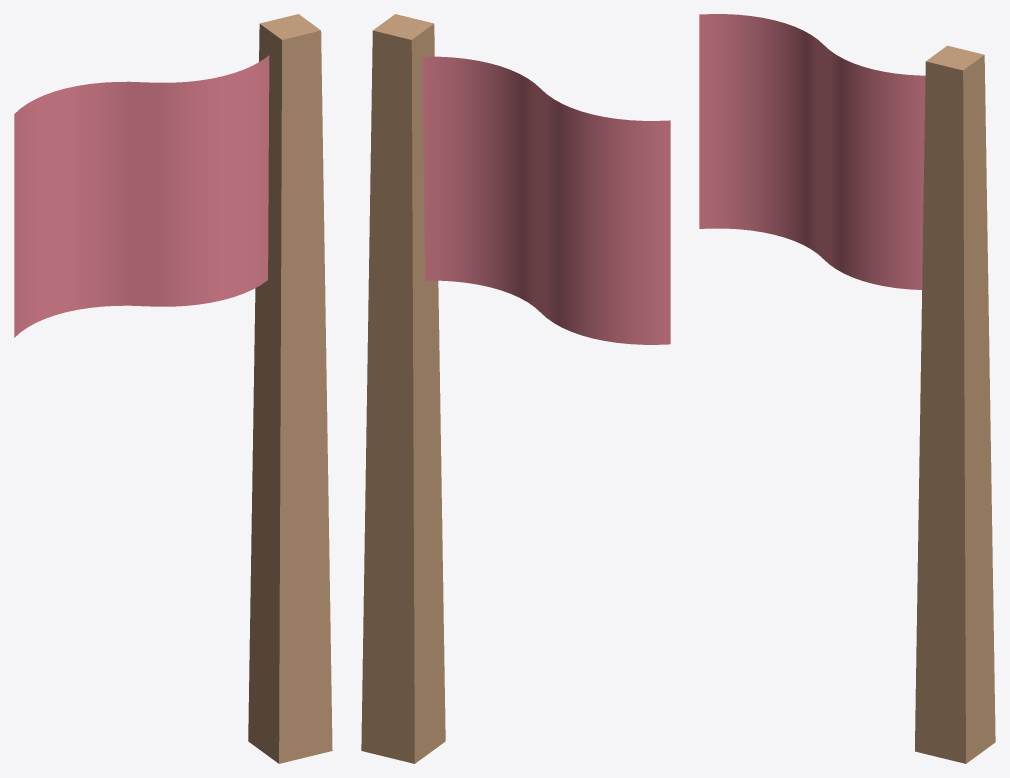
File: flag.glb
3 views of the same model, side by side, from view 1: azimuth 30°, elevation 25°; view 2: azimuth 150°, elevation 25°; view 3: azimuth 330°, elevation 25° (orthographic). The views are drawn at different scales.
Parts seen in each view (by area): view 1: flag; view 2: flag; view 3: flag.
Boxes of the visible parts, <box> form: flag: <box>14,14,332,763</box>; flag: <box>361,14,670,763</box>; flag: <box>699,14,995,763</box>.
Bounding box in the file's own units: 0.3905 × 0.9 × 0.0754.
